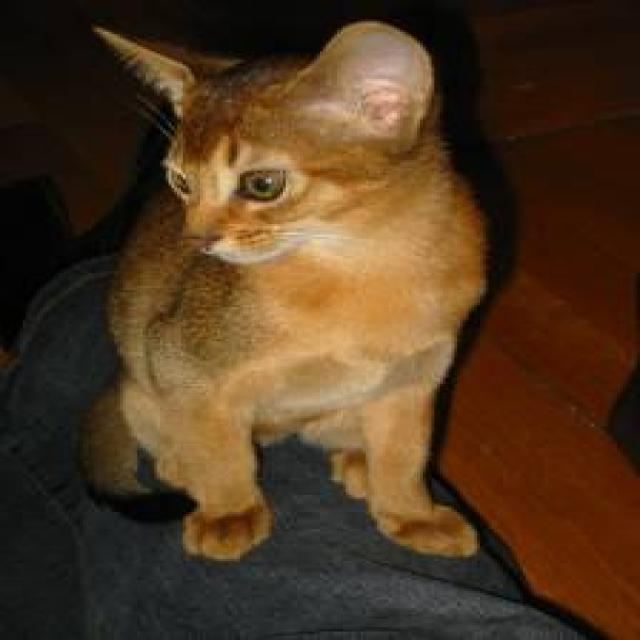Abyssinian: (83, 15, 450, 274)
